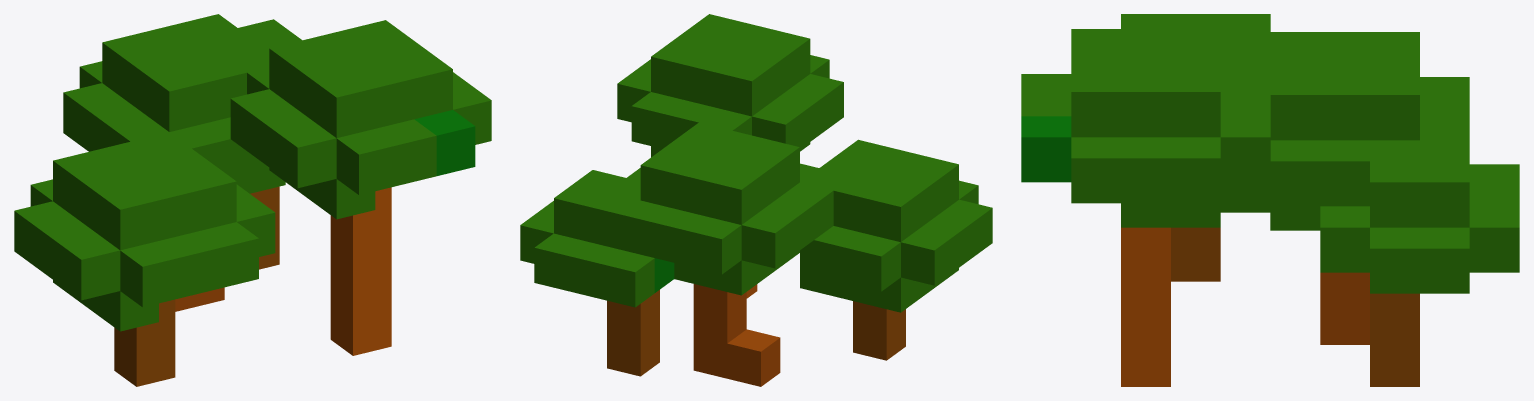
The model's file is Baum_1.obj.
The picture shows the model from 3 angles, left to right: view 1: azimuth 30°, elevation 25°; view 2: azimuth 150°, elevation 25°; view 3: azimuth 270°, elevation 25°; orthographic projection. The views are drawn at different scales.
Bounding box in the file's own units: 1 × 0.7 × 1.
Materials: 1 (1 with a texture image).
